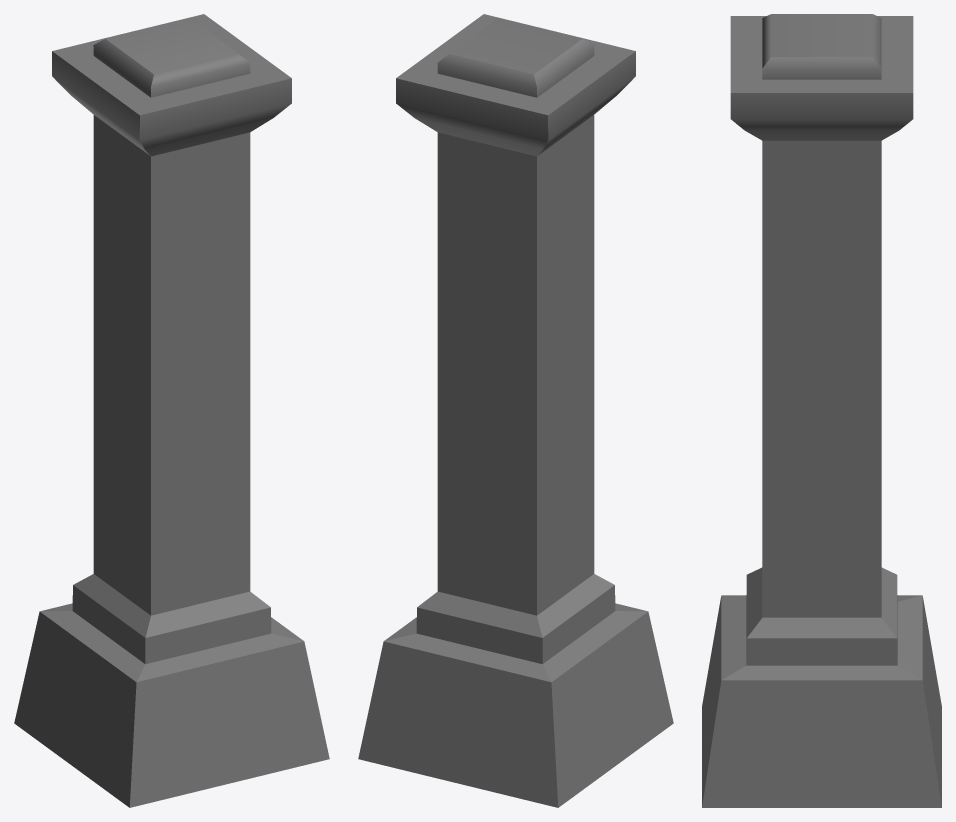
Rendered from pillar.fbx.
3 renders of one model, left to right at view 1: azimuth 30°, elevation 25°; view 2: azimuth 150°, elevation 25°; view 3: azimuth 270°, elevation 25°, orthographic. The views are drawn at different scales.
Parts seen in each view (by area): view 1: pCube1; view 2: pCube1; view 3: pCube1.
Part boxes in pixels (box(x1,y1,x2,y2)): pCube1: box(14, 14, 329, 807); pCube1: box(358, 14, 673, 807); pCube1: box(702, 14, 941, 807).
Size of the model in its own units: 0.9794 by 3.25 by 0.9794.
